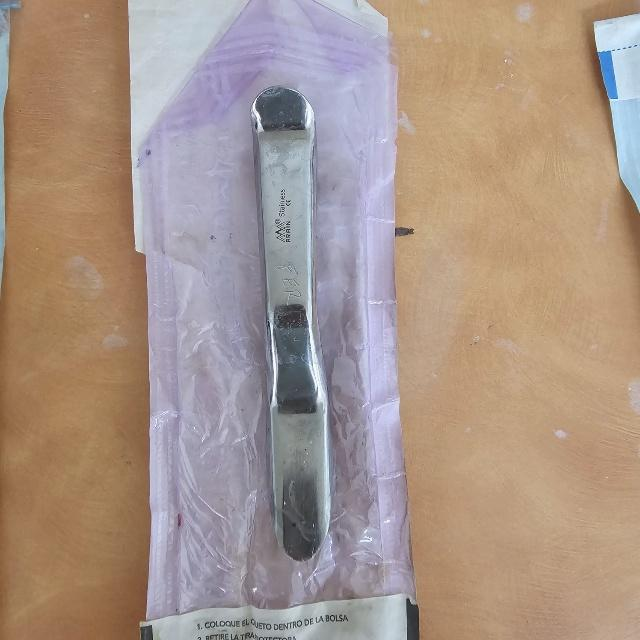separador: (252, 86, 331, 564)
